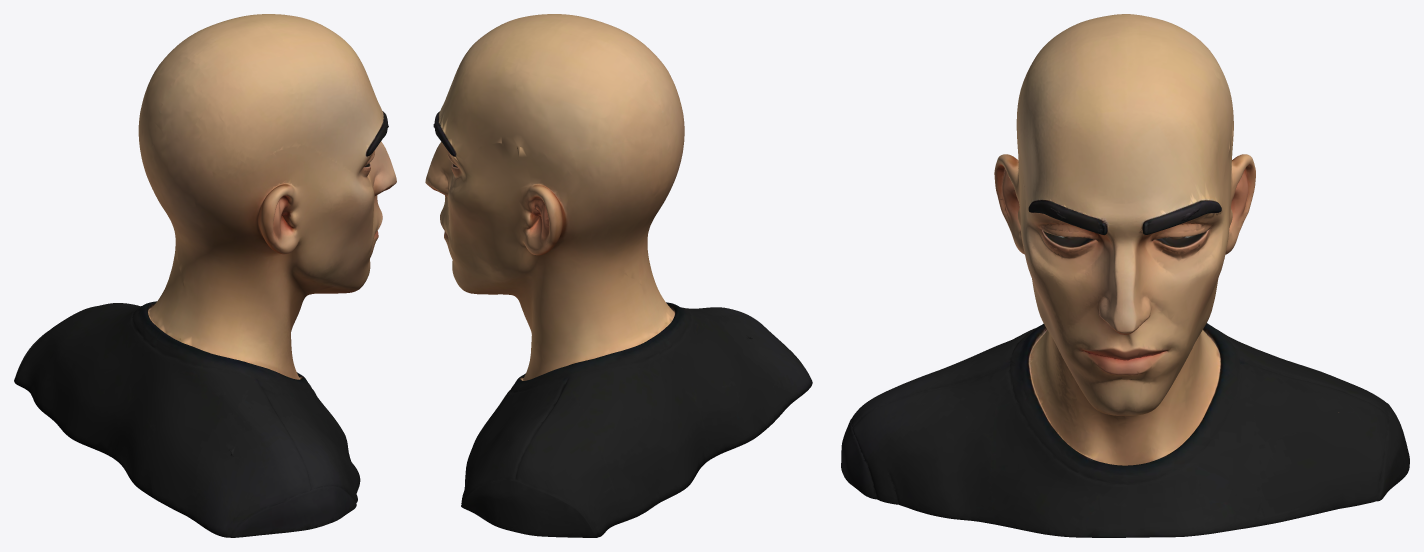
Rendered from sabri-base.glb.
3 renders of one model, left to right at view 1: azimuth 30°, elevation 25°; view 2: azimuth 150°, elevation 25°; view 3: azimuth 270°, elevation 25°, orthographic. The views are drawn at different scales.
Parts seen in each view (by area): view 1: tripo_node_b5f426f6-011c-4800-9f8e-d67598a18984; view 2: tripo_node_b5f426f6-011c-4800-9f8e-d67598a18984; view 3: tripo_node_b5f426f6-011c-4800-9f8e-d67598a18984.
Part boxes in pixels (x1,y1,x2,y2): tripo_node_b5f426f6-011c-4800-9f8e-d67598a18984: (14,14,396,537); tripo_node_b5f426f6-011c-4800-9f8e-d67598a18984: (425,14,812,537); tripo_node_b5f426f6-011c-4800-9f8e-d67598a18984: (841,14,1409,537).
Size of the model in its own units: 0.7611 by 1 by 1.09.
Materials: 1 (1 with a texture image).
